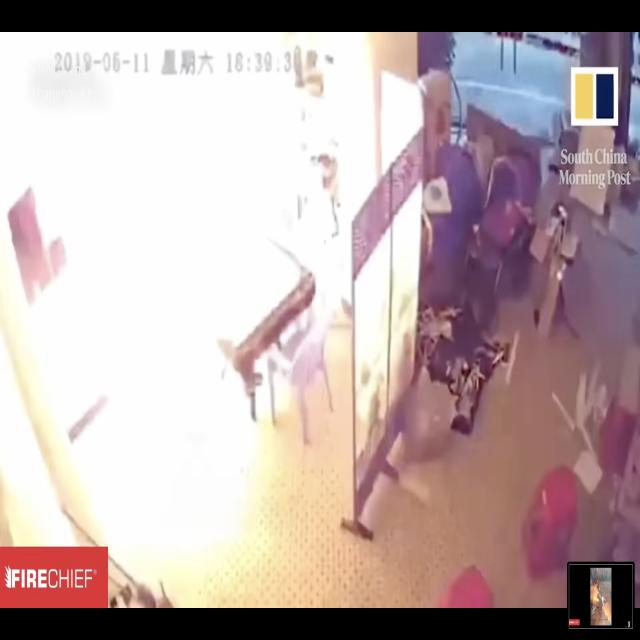Atencao: (8, 67, 587, 578)
Fogo: (51, 318, 265, 516)
